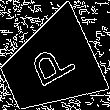P_SW: (22, 39, 77, 95)
